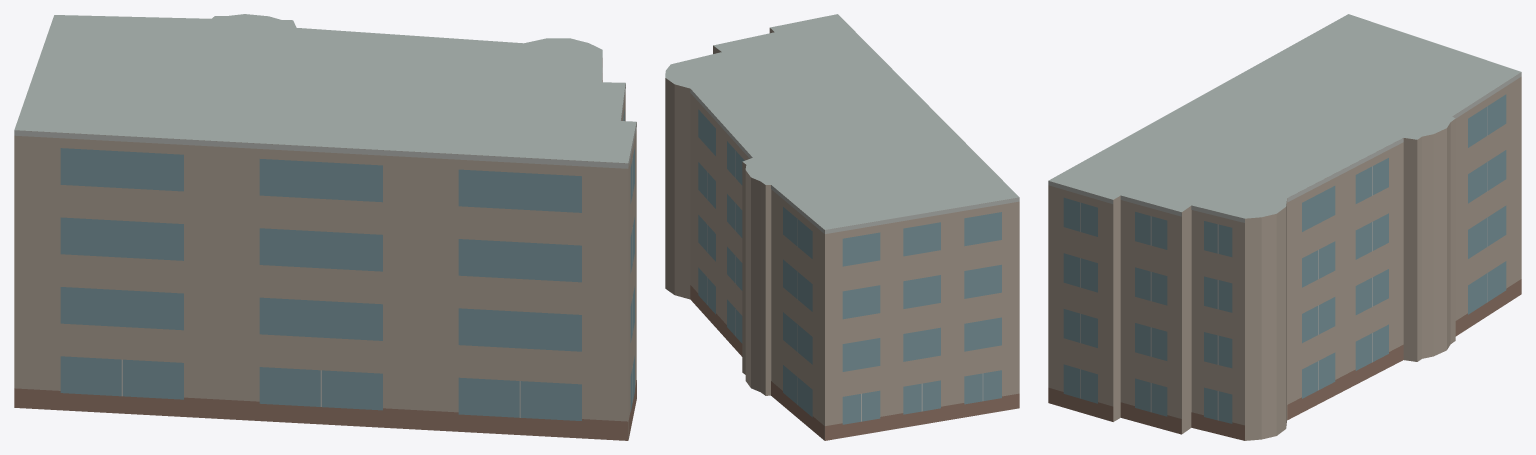
The model's file is survey-upis-33008829.glb.
The picture shows the model from 3 angles, left to right: view 1: azimuth 30°, elevation 25°; view 2: azimuth 150°, elevation 25°; view 3: azimuth 270°, elevation 25°; orthographic projection. The views are drawn at different scales.
Parts seen in each view (by area): view 1: survey-upis-33008829.tmp; view 2: survey-upis-33008829.tmp; view 3: survey-upis-33008829.tmp.
Part boxes in pixels (box(x1,y1,x2,y2)): survey-upis-33008829.tmp: box(14, 14, 636, 440); survey-upis-33008829.tmp: box(665, 14, 1019, 440); survey-upis-33008829.tmp: box(1048, 14, 1521, 440).
Size of the model in its own units: 24.1 by 12.2 by 23.56.
